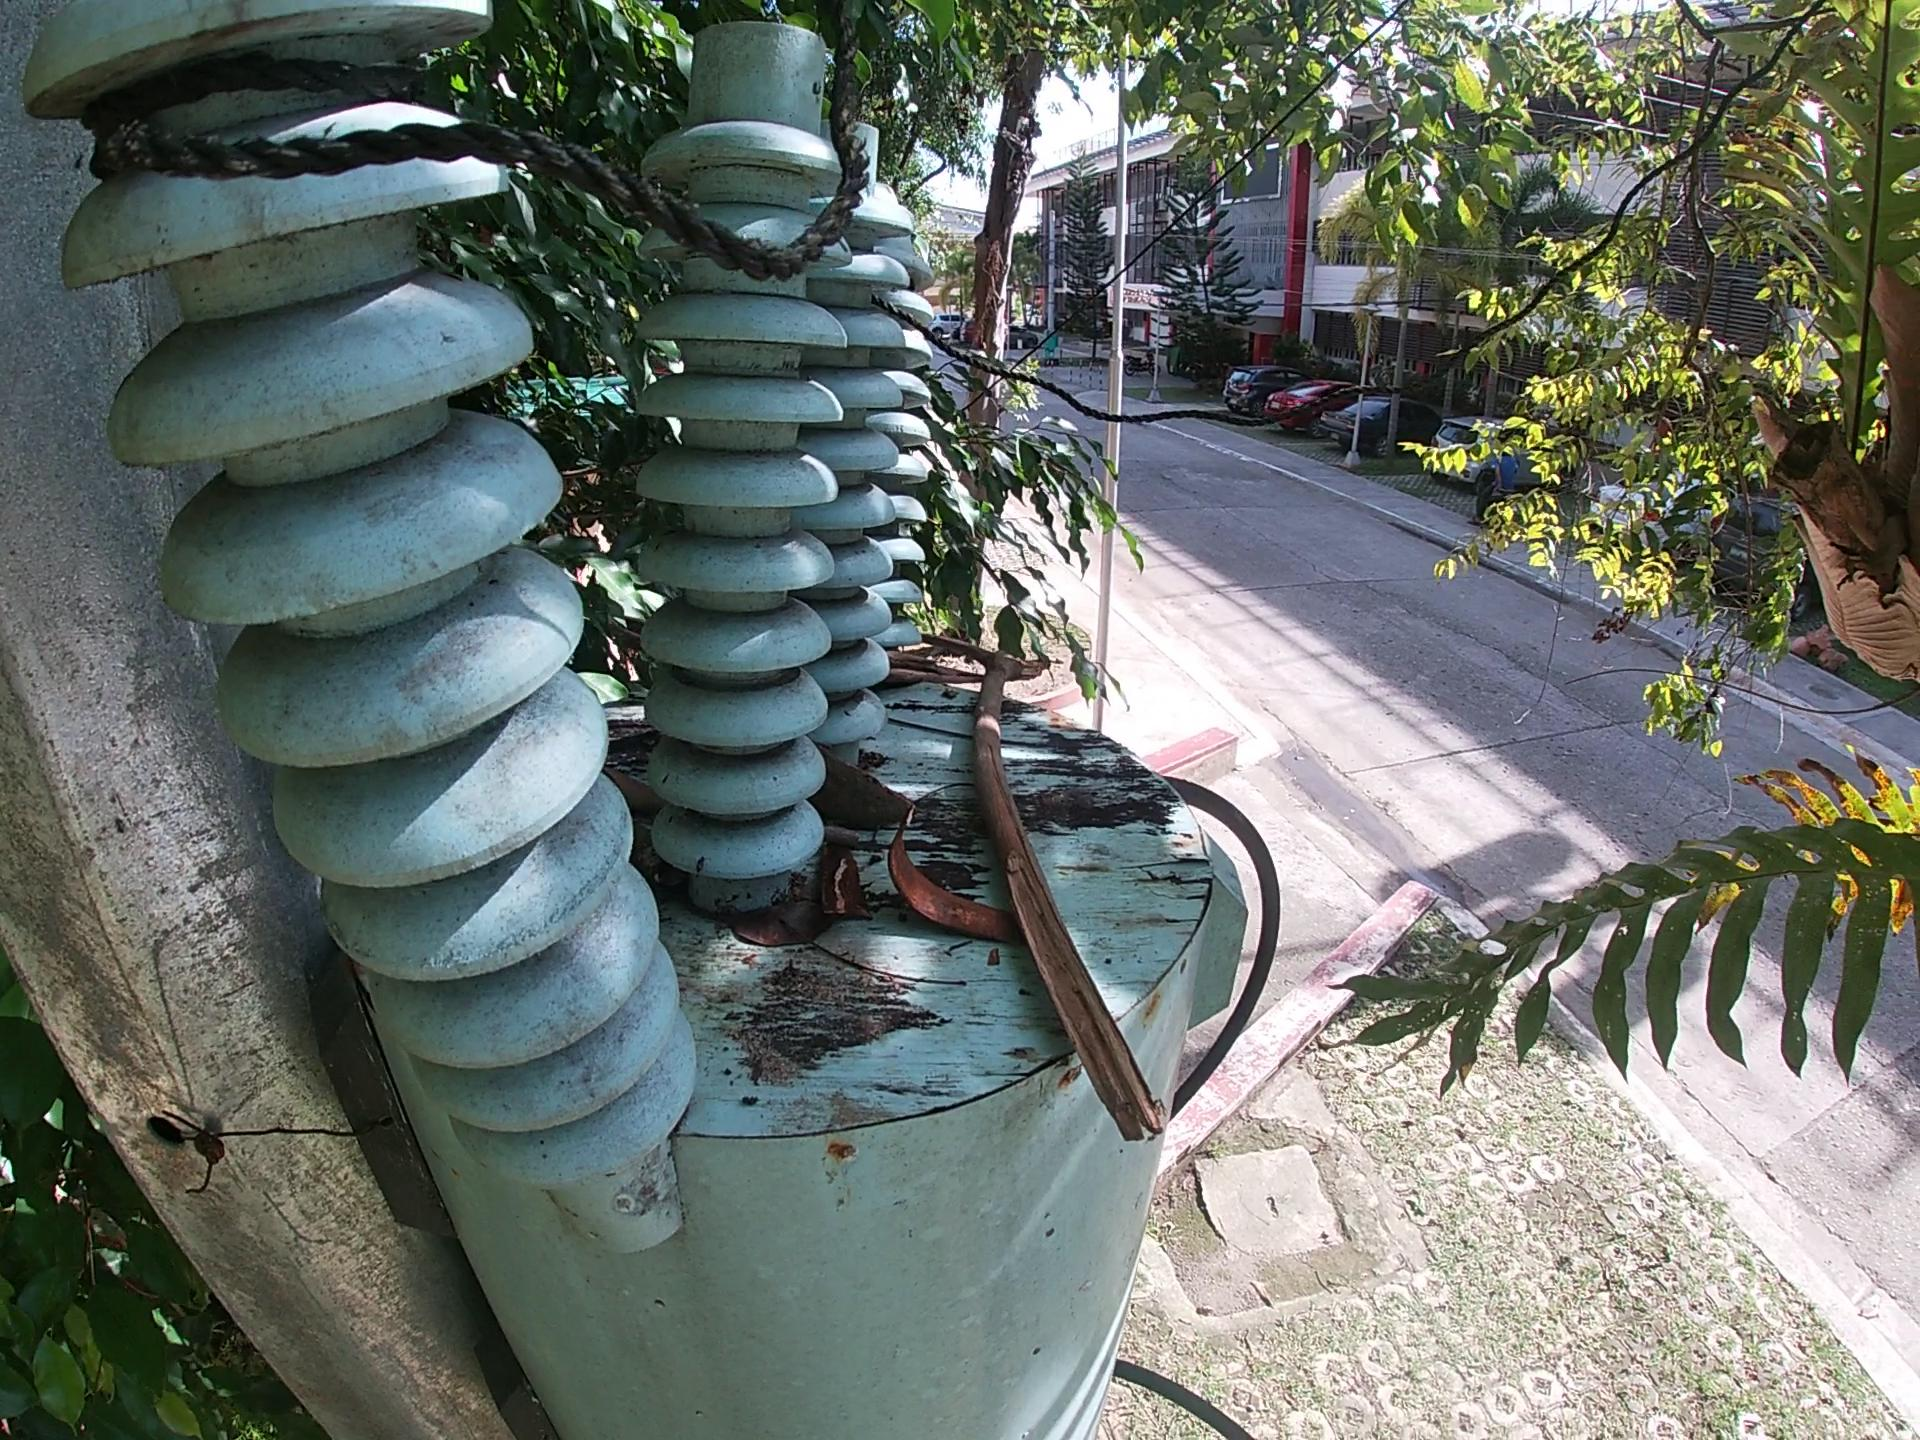leaf: (726, 886, 828, 959)
mahogany fruit: (883, 802, 1027, 947), (809, 740, 921, 830), (810, 841, 872, 924)
tree branch: (913, 628, 1166, 1147), (878, 650, 987, 694), (819, 824, 866, 846)
